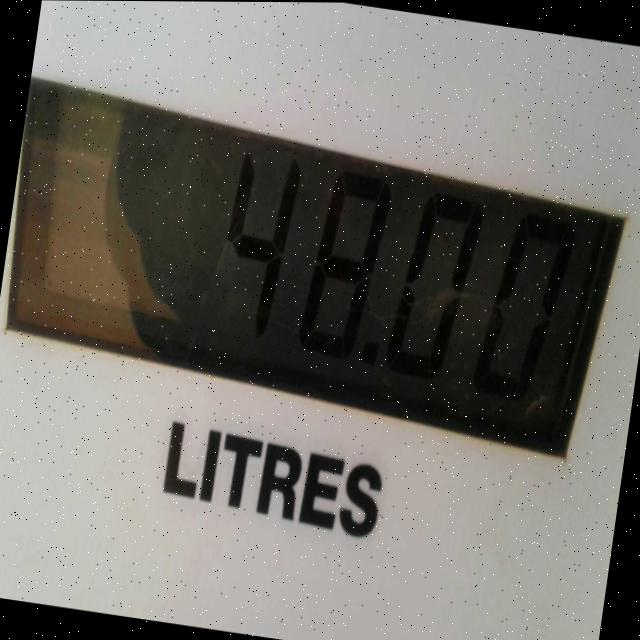.: (364, 340, 382, 365)
0: (382, 185, 486, 384), (478, 208, 567, 398)
4: (210, 146, 301, 355)
8: (300, 176, 390, 360)
